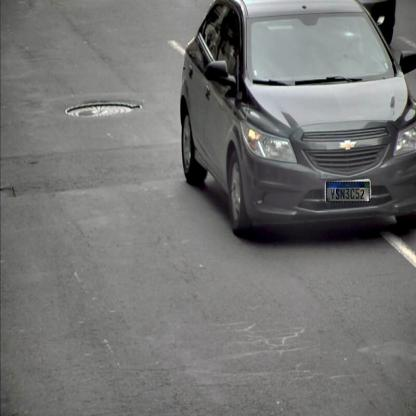PlacaM: (326, 182, 370, 203)
